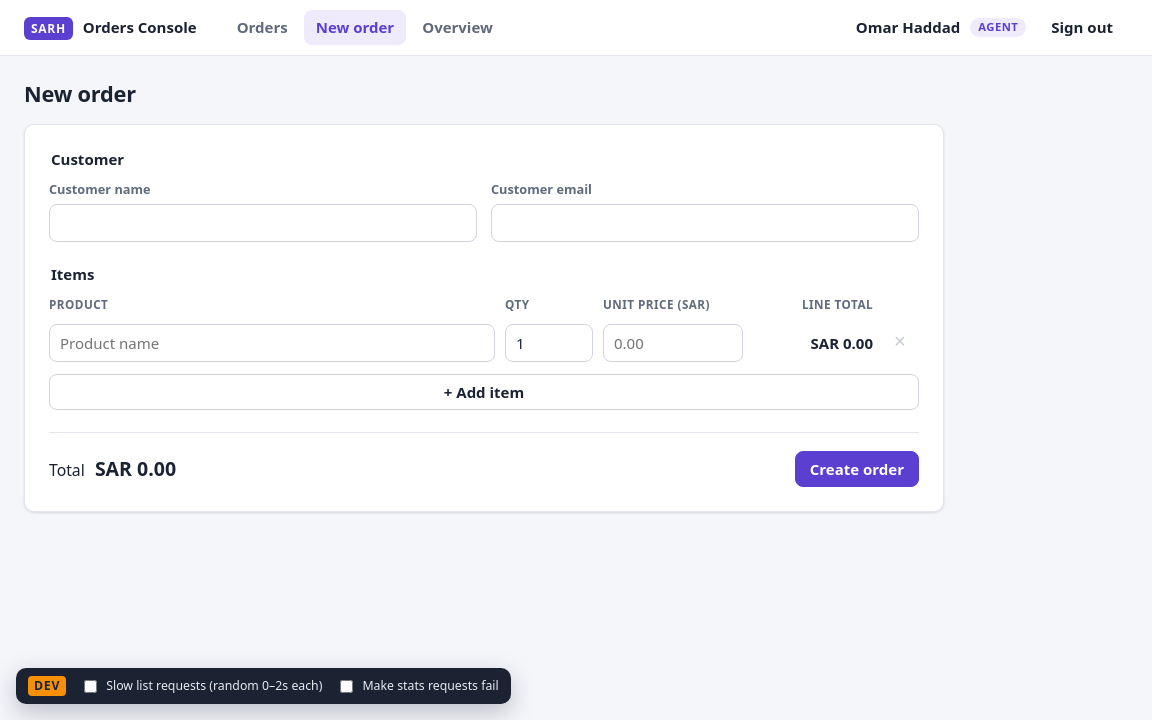
CreateOrderPage › retries a lost response with the same key and shows the original order
The width and height of the screenshot is (1152, 720).
Check: the heading "New order" is shown, box [24, 78, 136, 110]
Type "  Huda Al-Qahtani " into the field labelled "Customer name".
click(263, 223); type("  Huda Al-Qahtani ")  # box [49, 204, 477, 242]
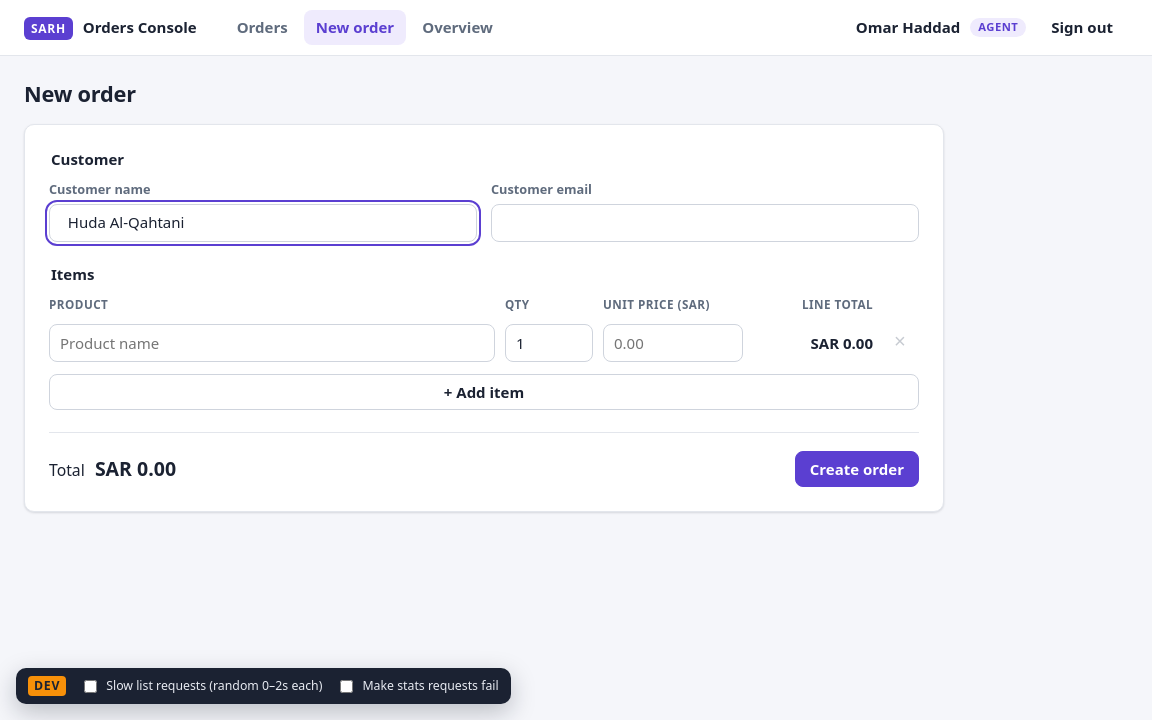
Type "Huda.Q@Example.com" into the field labelled "Customer email".
click(705, 223); type("Huda.Q@Example.com")  # box [491, 204, 919, 242]
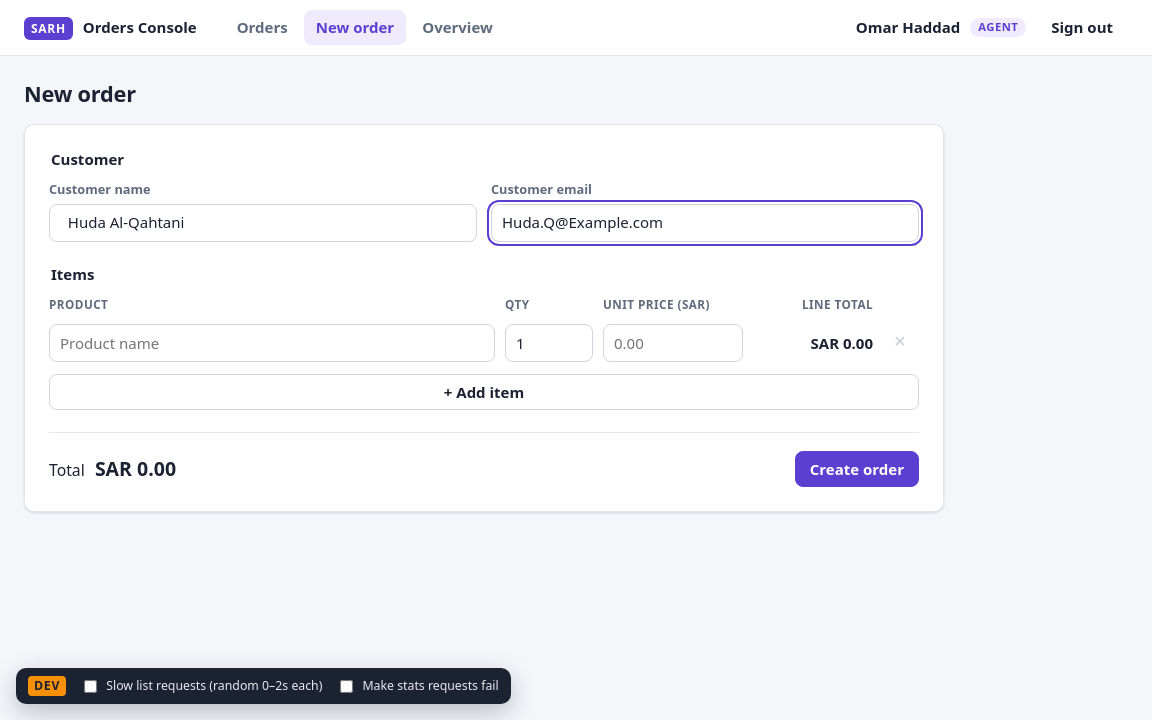
Type "Sukkari Dates Gift Box" into the field named "Product 1".
click(272, 344); type("Sukkari Dates Gift Box")  # box [49, 324, 495, 362]
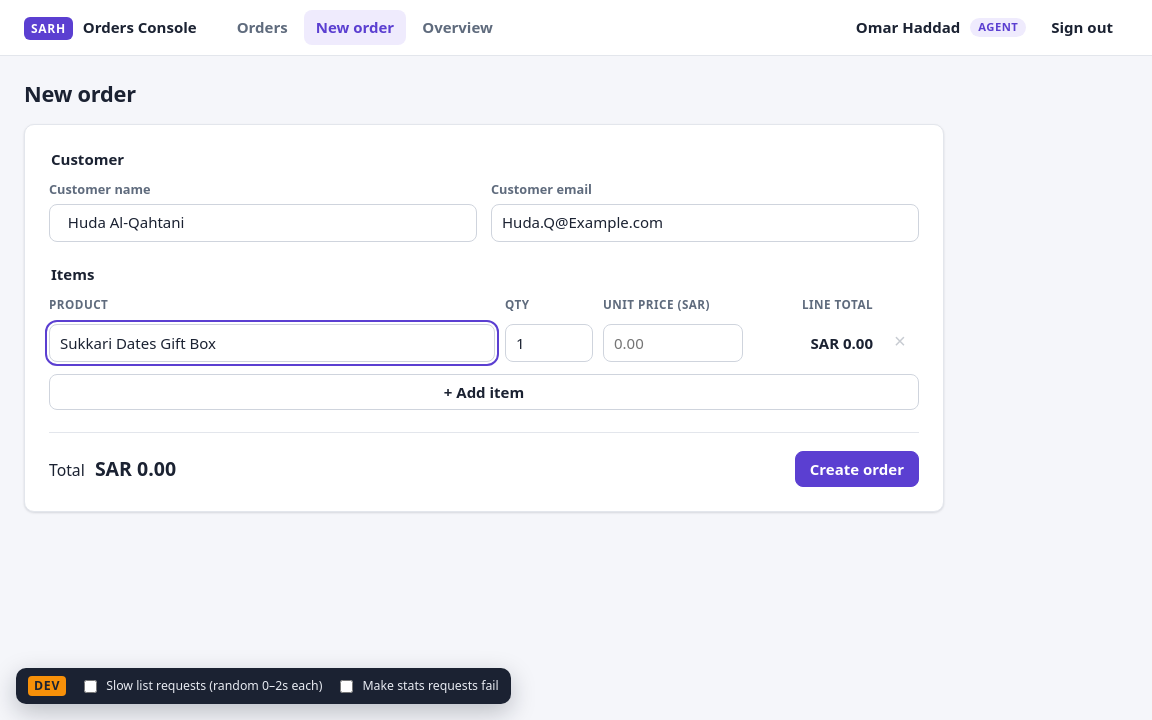
Replace the text in the number field named "Quantity 1" with "2" at (549, 344), box [505, 324, 593, 362]
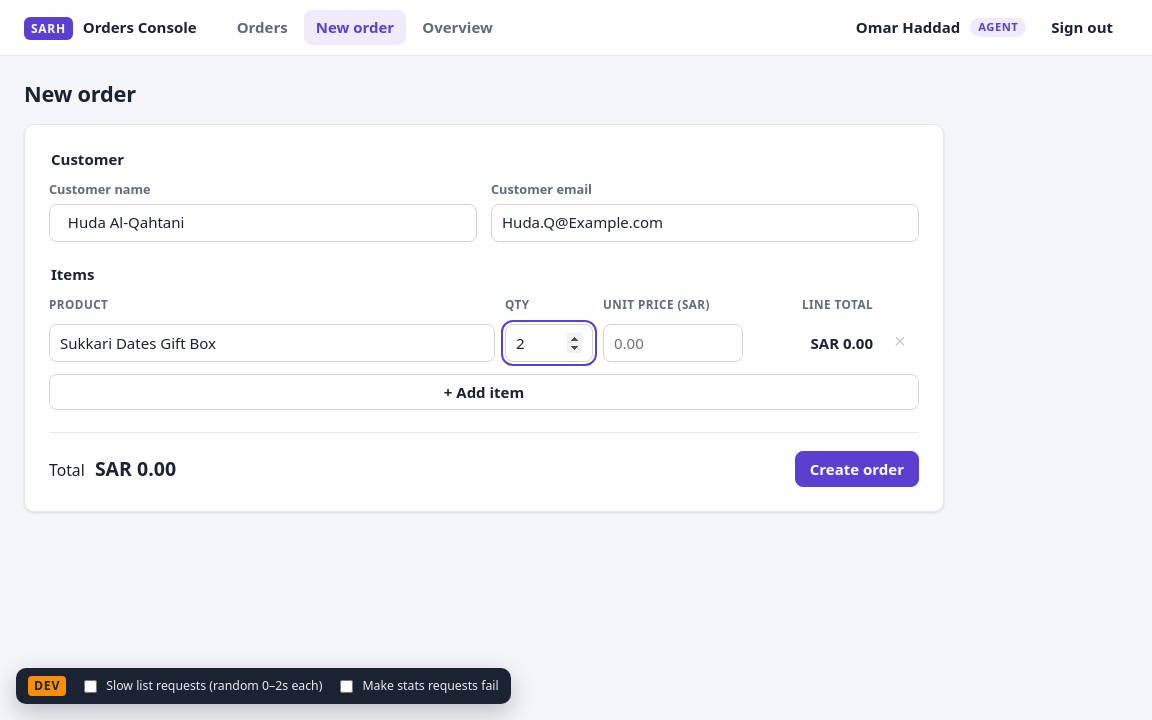
Type "95" into the field named "Unit price 1".
click(673, 344); type("95")  # box [603, 324, 743, 362]
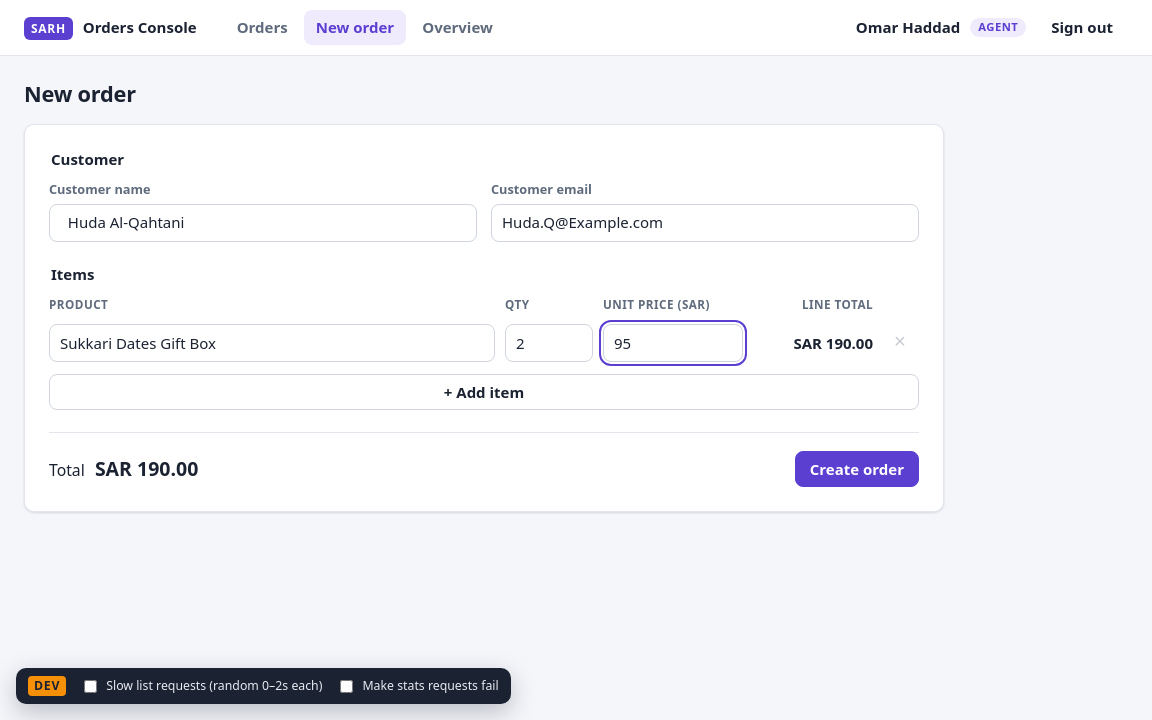
Click the button "Create order".
click(857, 470)  # box [795, 452, 919, 488]
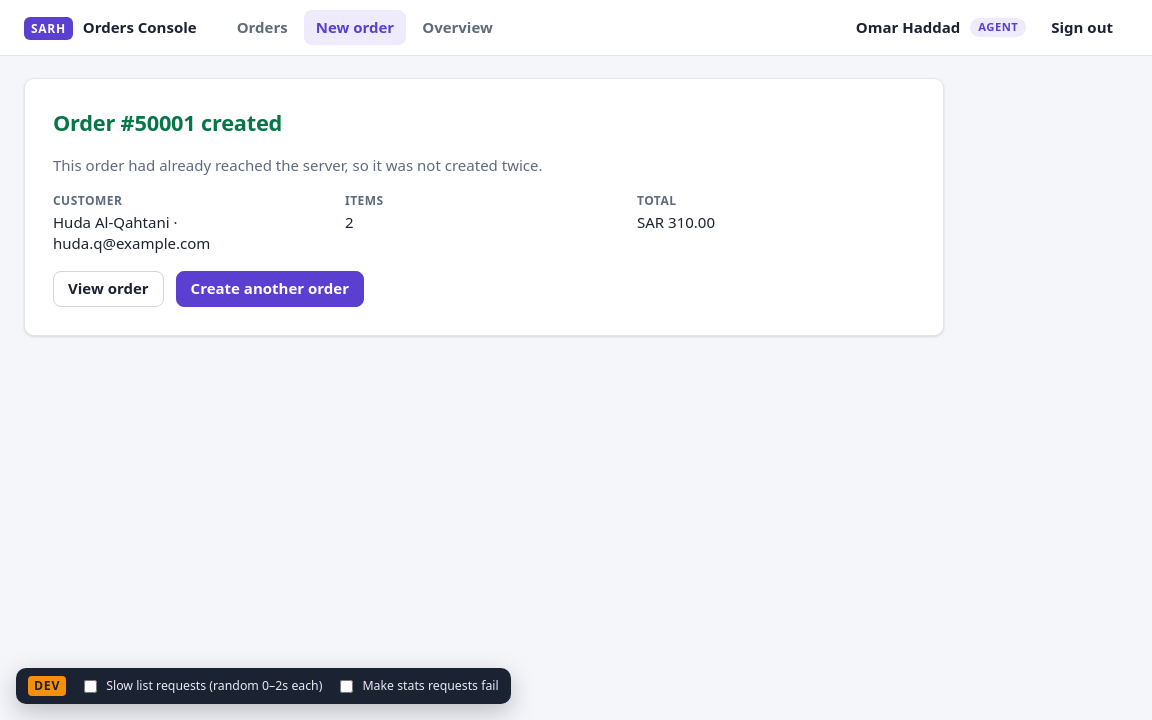
Check: the heading "Order #50001 created" is shown, box [53, 108, 282, 137]
Check: the text "already reached the server, so it was not created twice" is shown, box [53, 154, 542, 174]
